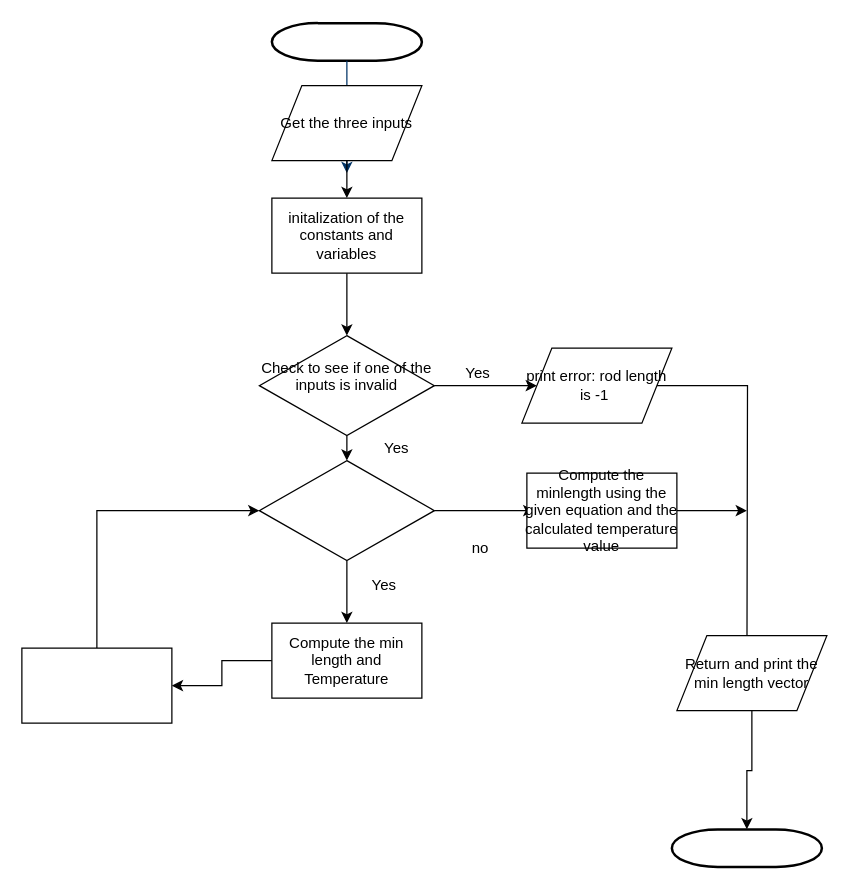
Image size: 849x889. Some labels were removed from this diagram. The box of each missing label's shape, as (x1, y1, x2, y2) in pixels:
Add 0.5 to the min diameter and 1 to the counter: (21, 647, 172, 723)
Is the min. diameter < max diamter: (258, 459, 434, 561)
start: (270, 21, 422, 61)
stop: (670, 828, 822, 868)
